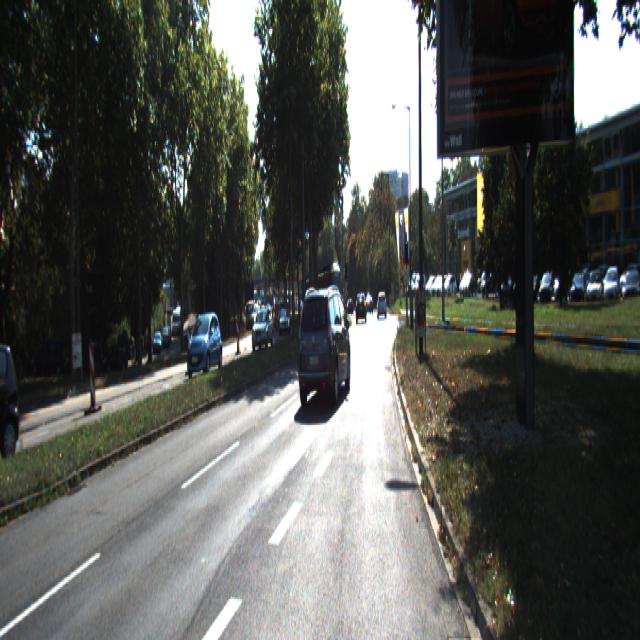Car: (296, 282, 352, 411), (0, 338, 23, 469), (186, 311, 223, 378), (308, 267, 342, 322), (250, 309, 274, 350), (356, 293, 366, 323), (378, 293, 387, 318)
